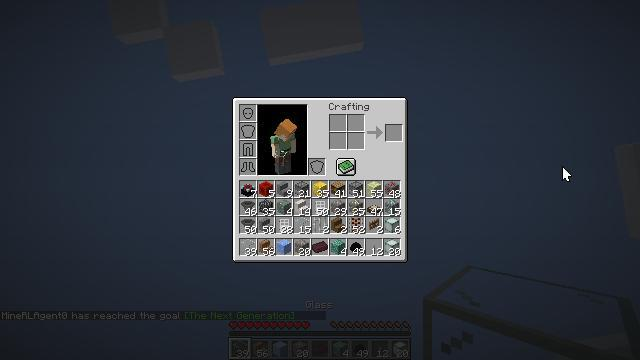cursor: (562, 166, 572, 182)
